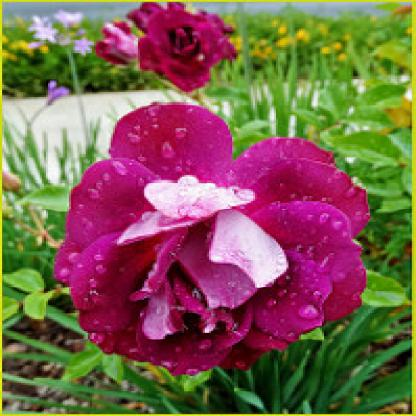ROSE-MAWAR: (43, 91, 383, 381)
